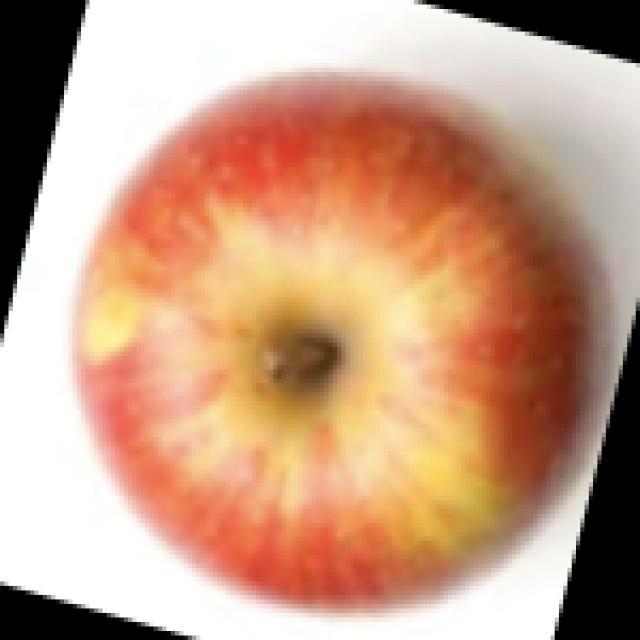Fresh Apple: (76, 60, 566, 543)
